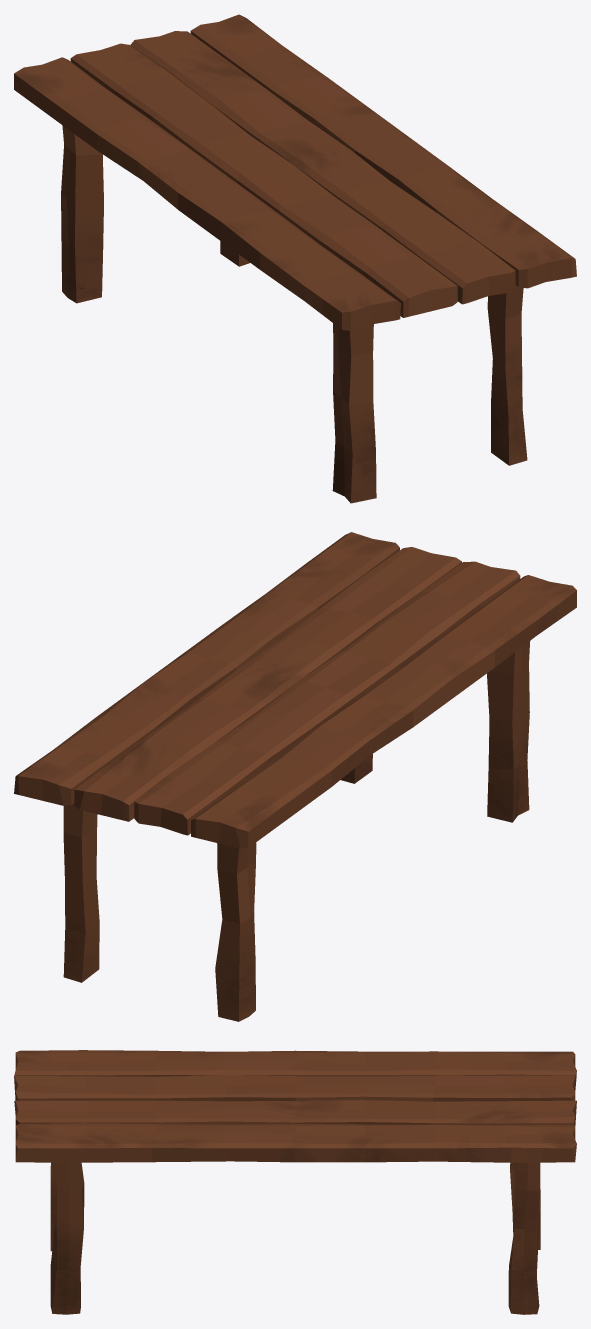
File: table1_model.glb
3 renders of one model, top to bottom at view 1: azimuth 30°, elevation 25°; view 2: azimuth 150°, elevation 25°; view 3: azimuth 270°, elevation 25°, orthographic. The views are drawn at different scales.
Visible parts, largest first — view 1: Cube; view 2: Cube; view 3: Cube.
Boxes of the visible parts, x1,y1,x2,y2 form: Cube: (14, 14, 576, 503); Cube: (14, 532, 576, 1021); Cube: (14, 1050, 576, 1314).
Size of the model in its own units: 4.19 by 3.69 by 10.35.
1 material, 1 textured.
